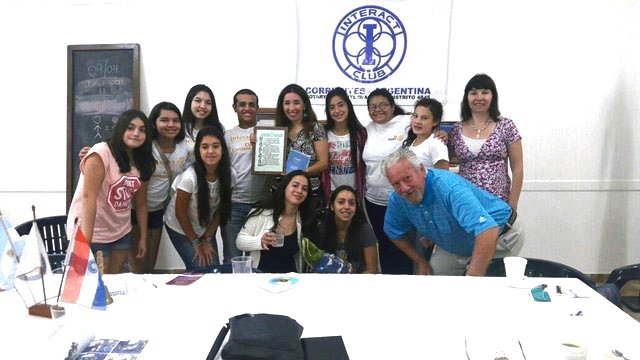person: (369, 148, 496, 261), (455, 60, 525, 209), (171, 129, 242, 267), (85, 110, 154, 238)
